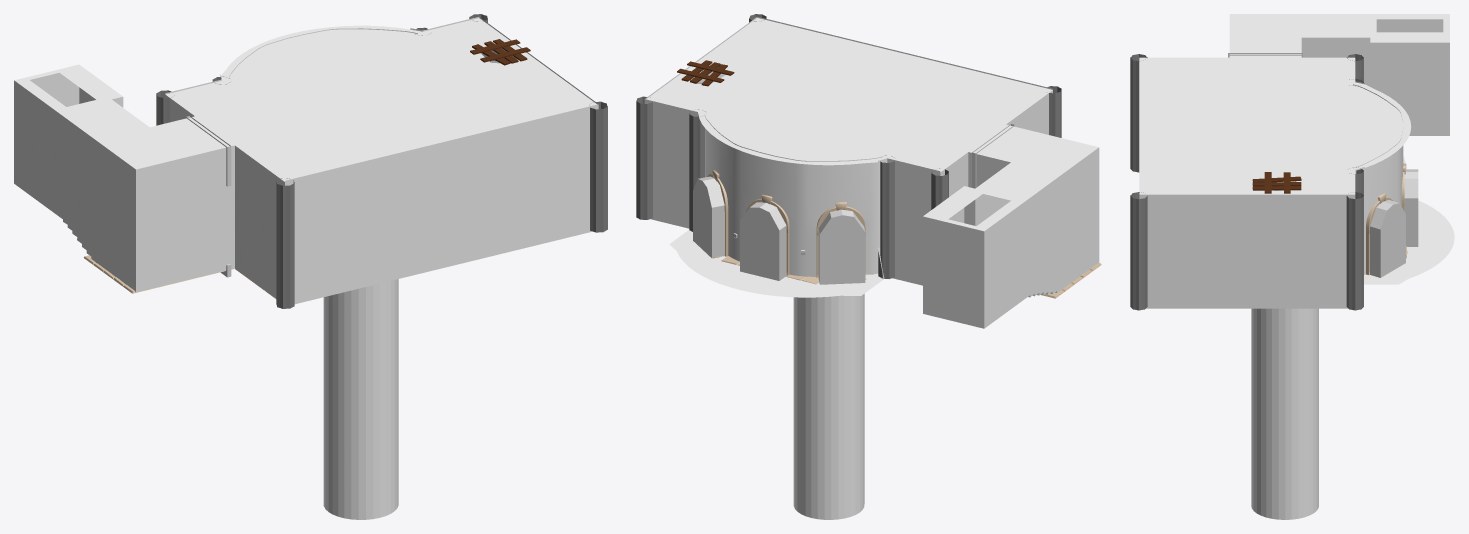
File: LevelSelectRoom.fbx
3 renders of one model, left to right at view 1: azimuth 30°, elevation 25°; view 2: azimuth 150°, elevation 25°; view 3: azimuth 270°, elevation 25°, orthographic. The views are drawn at different scales.
Visible parts, largest first — view 1: Room, Columns, CeilingPlanks; view 2: Room, ArchWall_LP, Cube, Columns, Cube.010, CeilingPlanks, FloorTile_LP; view 3: Room, Columns, Cube, ArchWall_LP, CeilingPlanks, Cube.010.
Boxes of the visible parts, x1,y1,x2,y2 form: Room: [14, 17, 598, 519]; Columns: [156, 14, 607, 308]; CeilingPlanks: [470, 39, 530, 65]; Room: [644, 16, 1099, 519]; ArchWall_LP: [705, 116, 882, 276]; Cube: [693, 176, 865, 284]; Columns: [636, 14, 1061, 278]; Cube.010: [707, 174, 865, 277]; CeilingPlanks: [677, 60, 734, 86]; FloorTile_LP: [698, 246, 1101, 298]; Room: [1139, 14, 1454, 519]; Columns: [1130, 54, 1363, 310]; Cube: [1370, 156, 1418, 277]; ArchWall_LP: [1353, 84, 1403, 274]; CeilingPlanks: [1252, 172, 1301, 193]; Cube.010: [1365, 172, 1404, 275].
Size of the model in its own units: 25.39 by 24.26 by 18.64.
